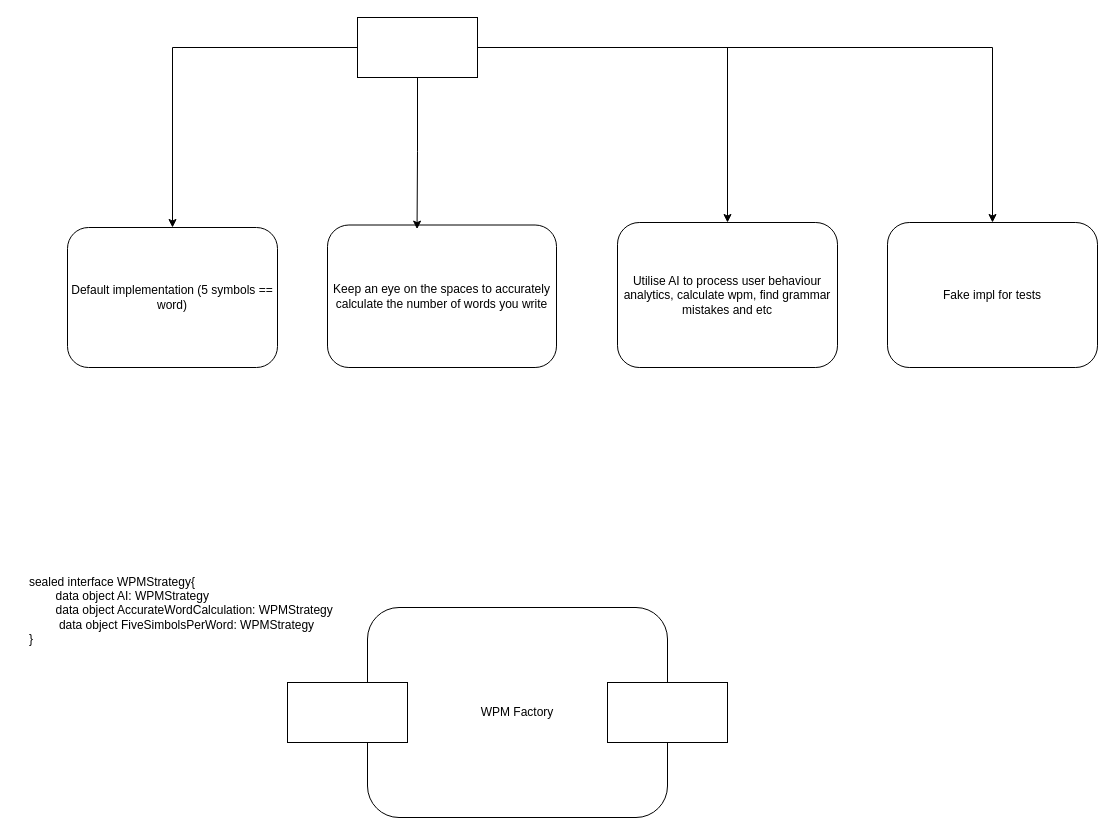
The diagram is 1115 pixels wide and 835 high, and some of its shapes have lost their labels. The shapes that lost their labels are listed below. From the top down, each one's centre as x and y in pixels, then its label:
At point (417, 47): "WPM interface".
At point (347, 712): "Input: WPMStrategy".
At point (667, 712): "output : WPM interface".
